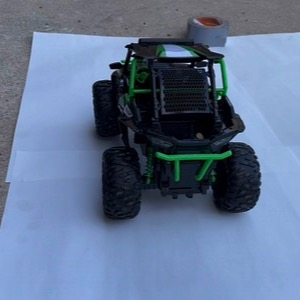polaris: (91, 38, 265, 221)
